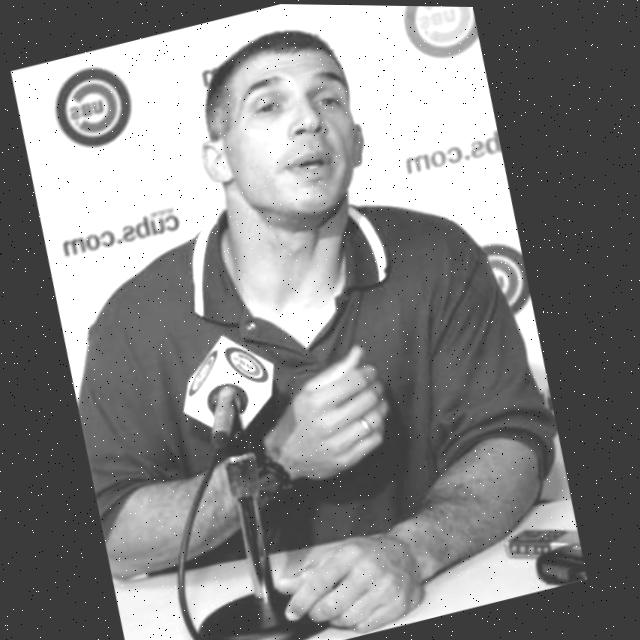face: (173, 31, 384, 250)
